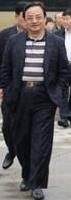boots: (1, 152, 14, 169), (19, 178, 30, 191)
